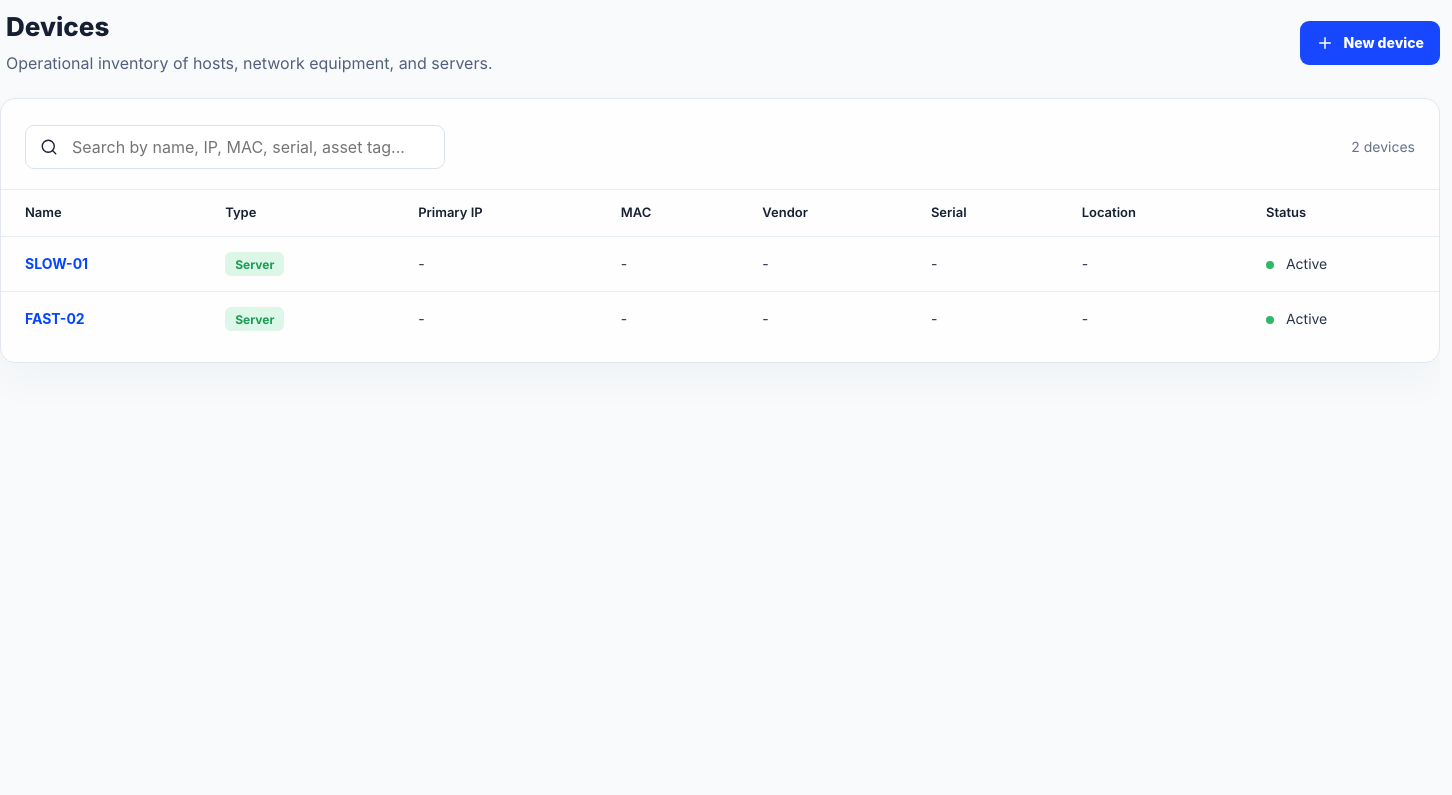
Scenario: DevicesView › shows the device opened last when an earlier detail answers later
Click the button "SLOW-01": (57, 264) [25,255,88,272]
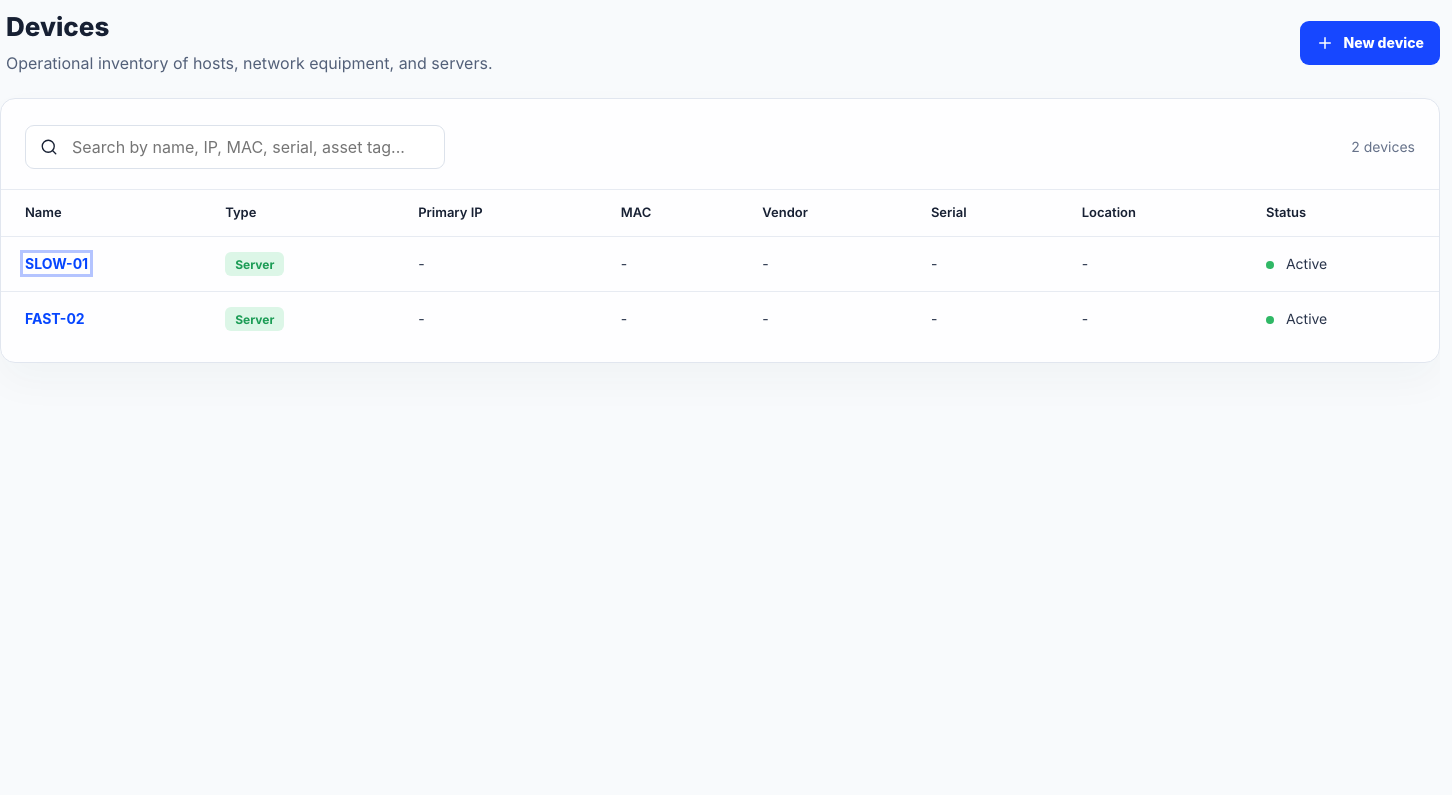
Click the button "FAST-02": (55, 318) [25,310,85,327]
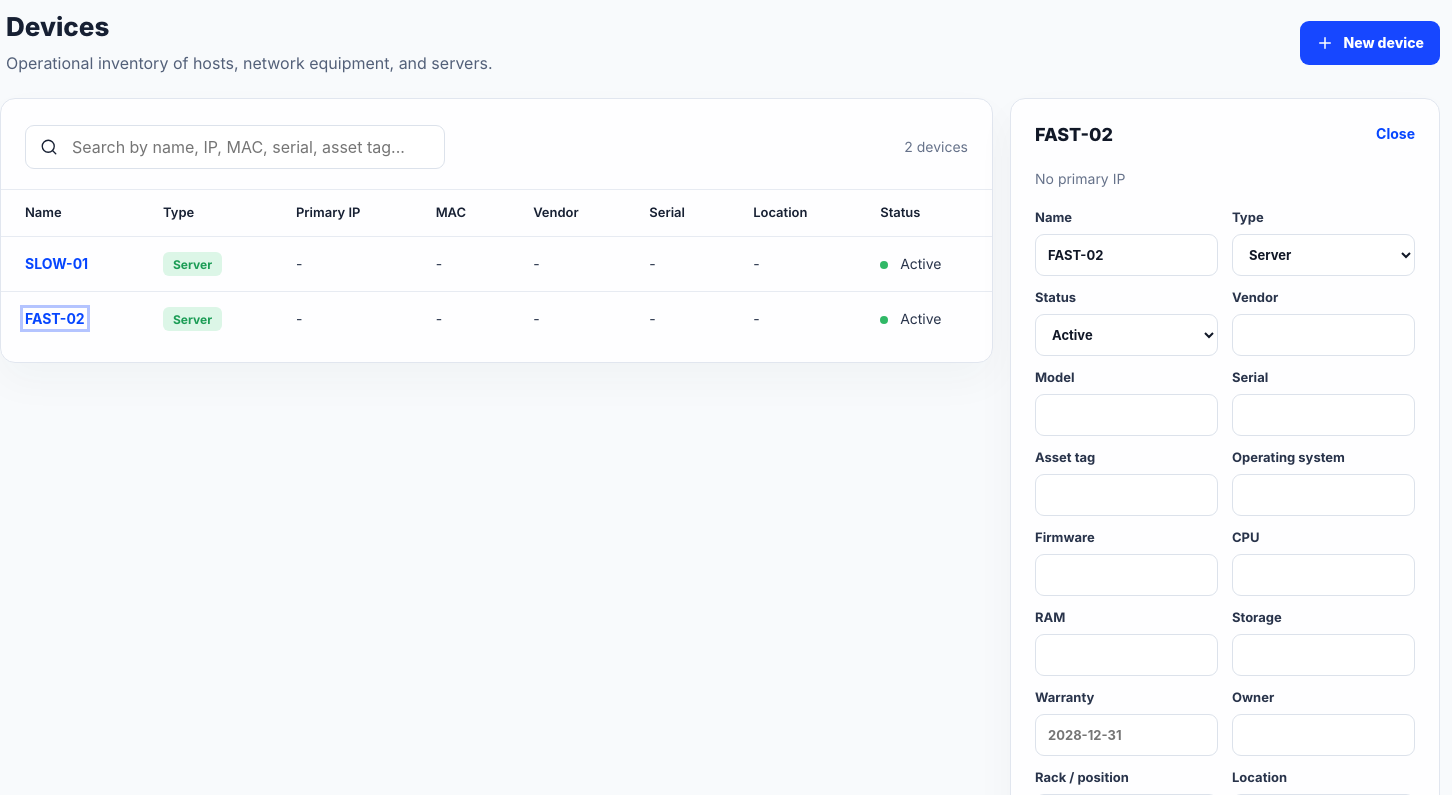
Expected: the heading "FAST-02" is shown, [1035,125,1125,146]
